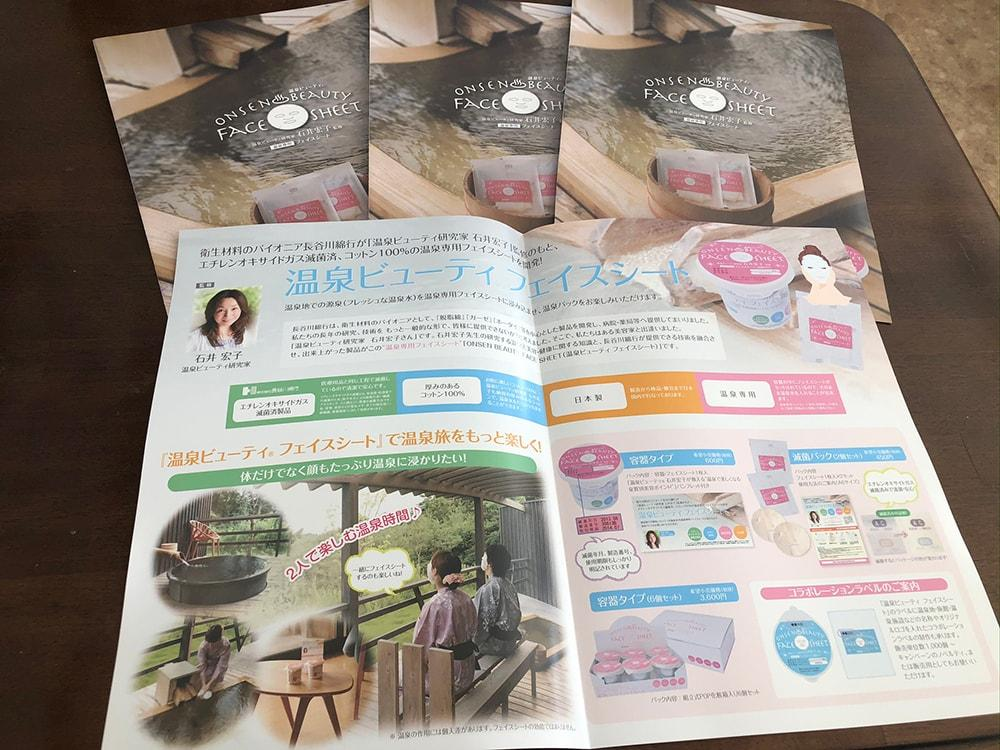cardboard: (105, 217, 574, 749), (524, 220, 997, 744), (95, 0, 368, 225)
paper: (105, 217, 579, 749)
